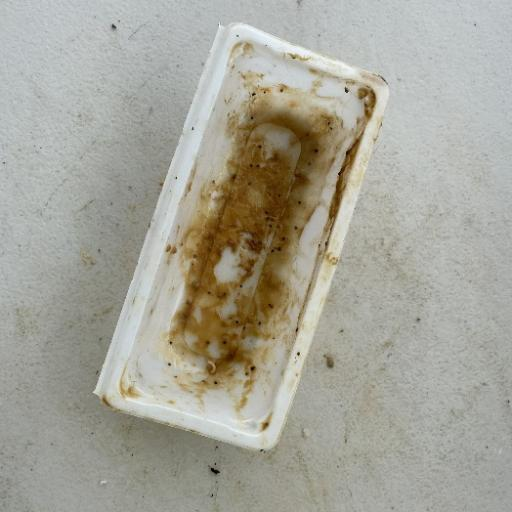Plastic: (92, 22, 390, 452)
